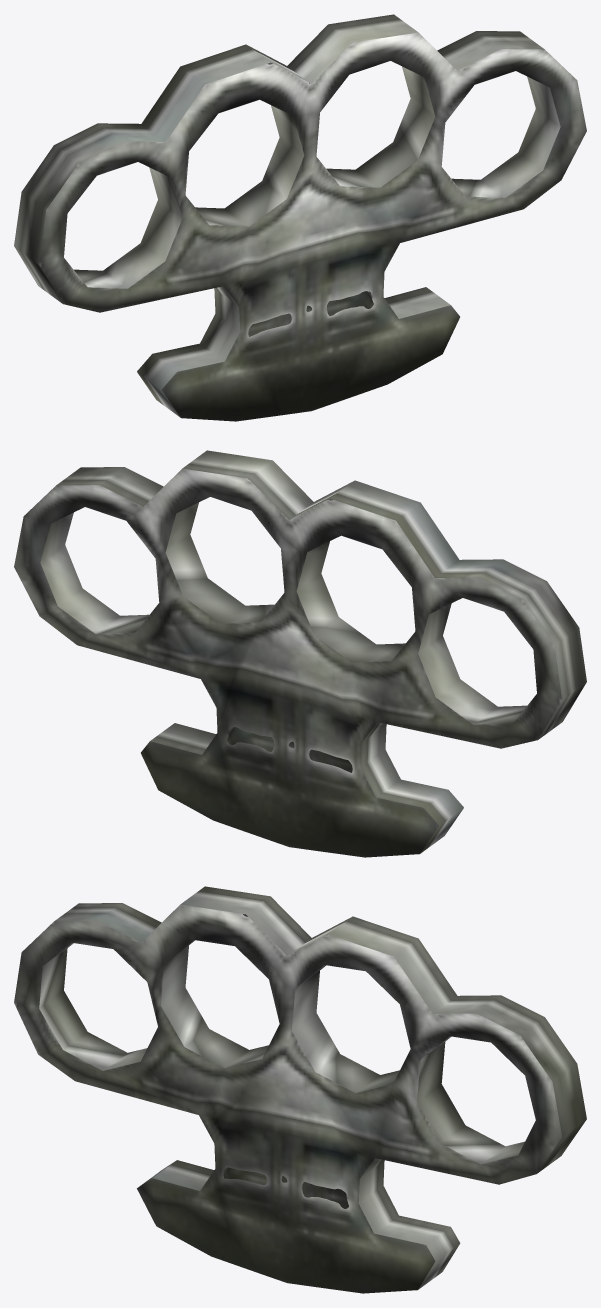
The model's file is brass_knuckle.FBX.
3 views of the same model, one above another, from view 1: azimuth 30°, elevation 25°; view 2: azimuth 150°, elevation 25°; view 3: azimuth 330°, elevation 25° (orthographic).
Visible parts, largest first — view 1: brass_knuckle; view 2: brass_knuckle; view 3: brass_knuckle.
Part boxes in pixels (bbox=[...]): brass_knuckle: bbox=[14, 14, 586, 421]; brass_knuckle: bbox=[14, 450, 586, 857]; brass_knuckle: bbox=[14, 886, 586, 1293].
Bounding box in the file's own units: 26.72 × 16.7 × 2.09.
